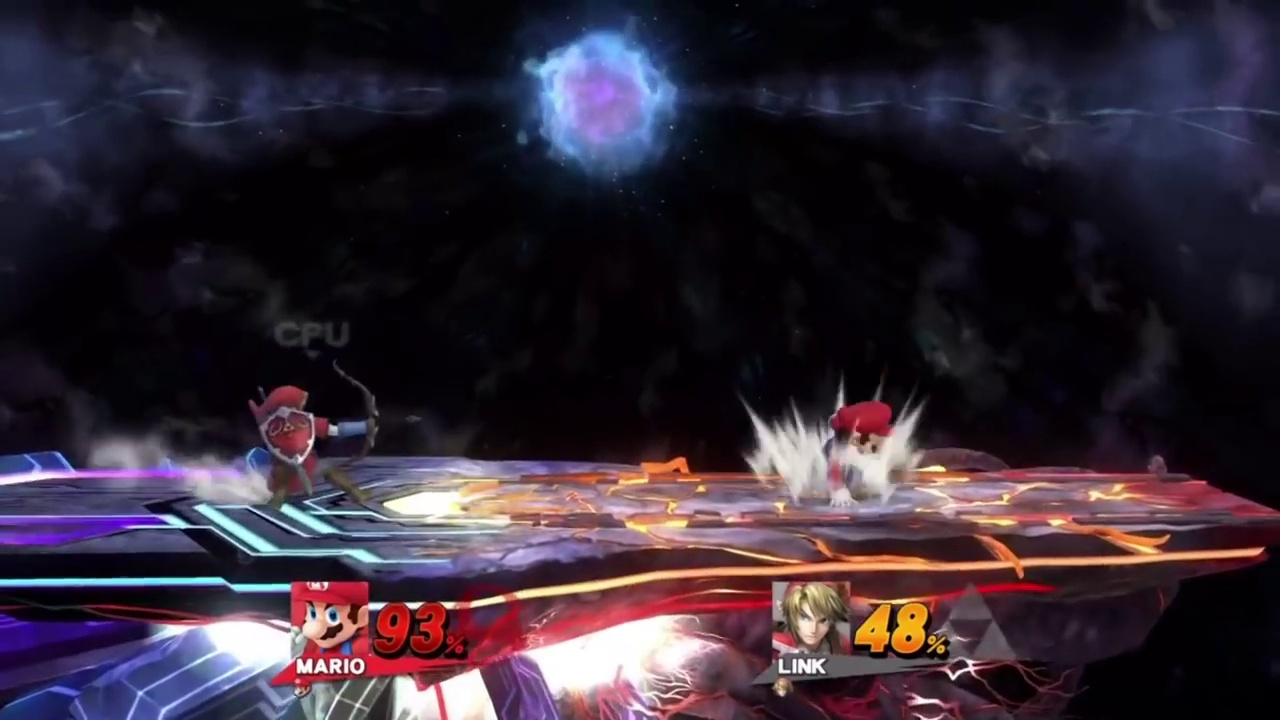Mario: (810, 402, 900, 501)
